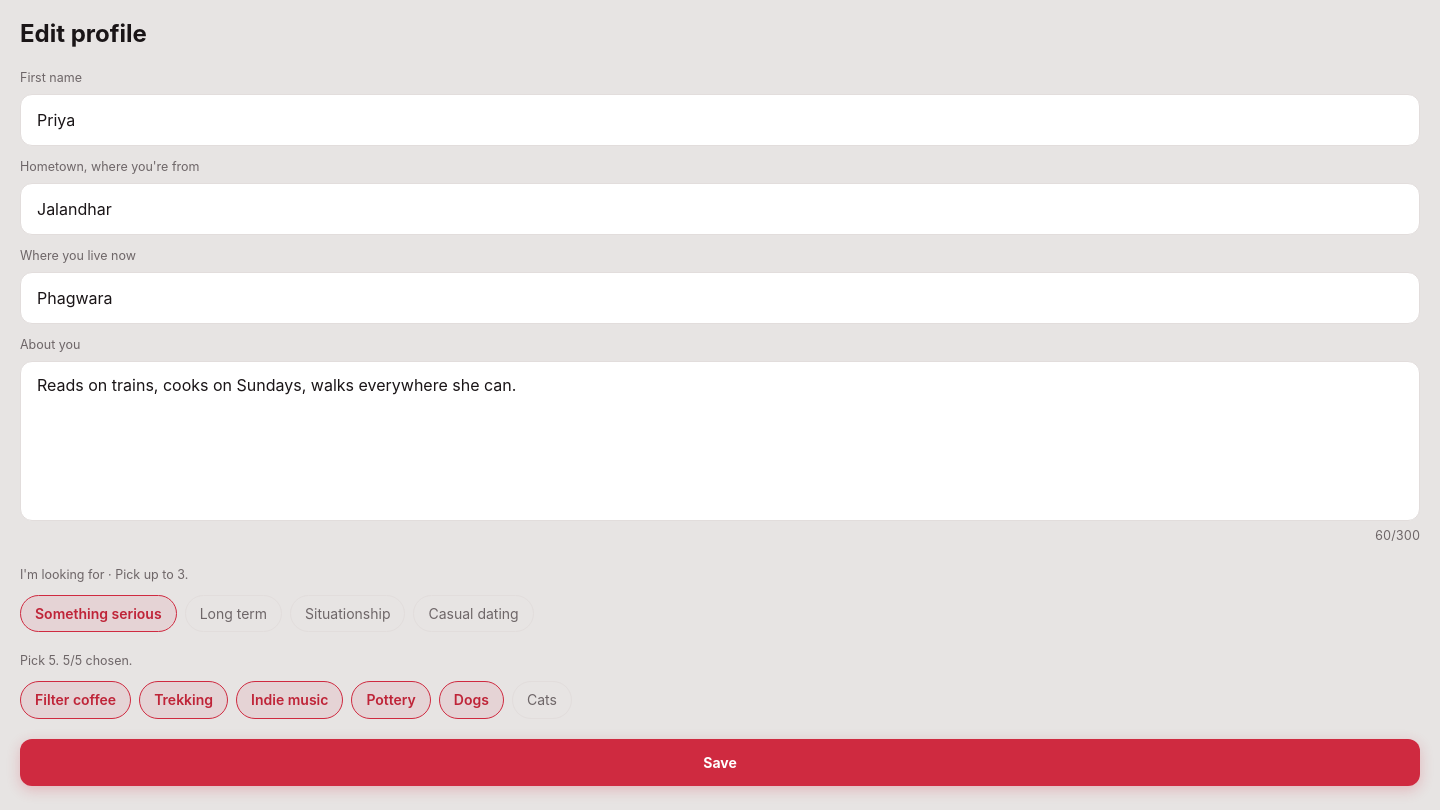
Test: edit profile (T-9.8) › shows the server's refusal beside its field (VALIDATION_ERROR), and stays
The image size is (1440, 810).
Type " Call me on 98765 43210 any time at all." into the text box labelled "About you" at (720, 441), box [20,361,1420,521]
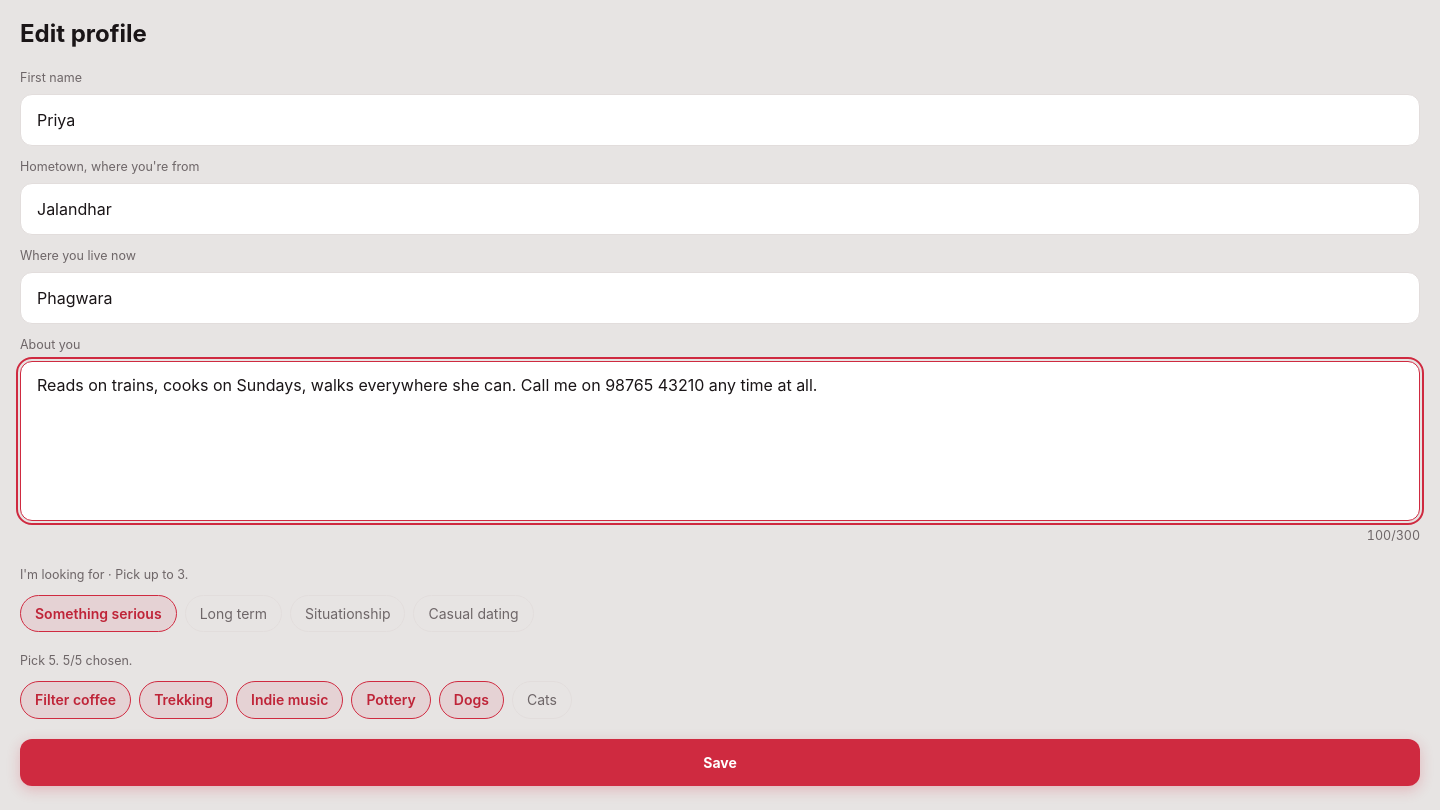
Click the button "Save" at (720, 763), box [20,739,1420,786]
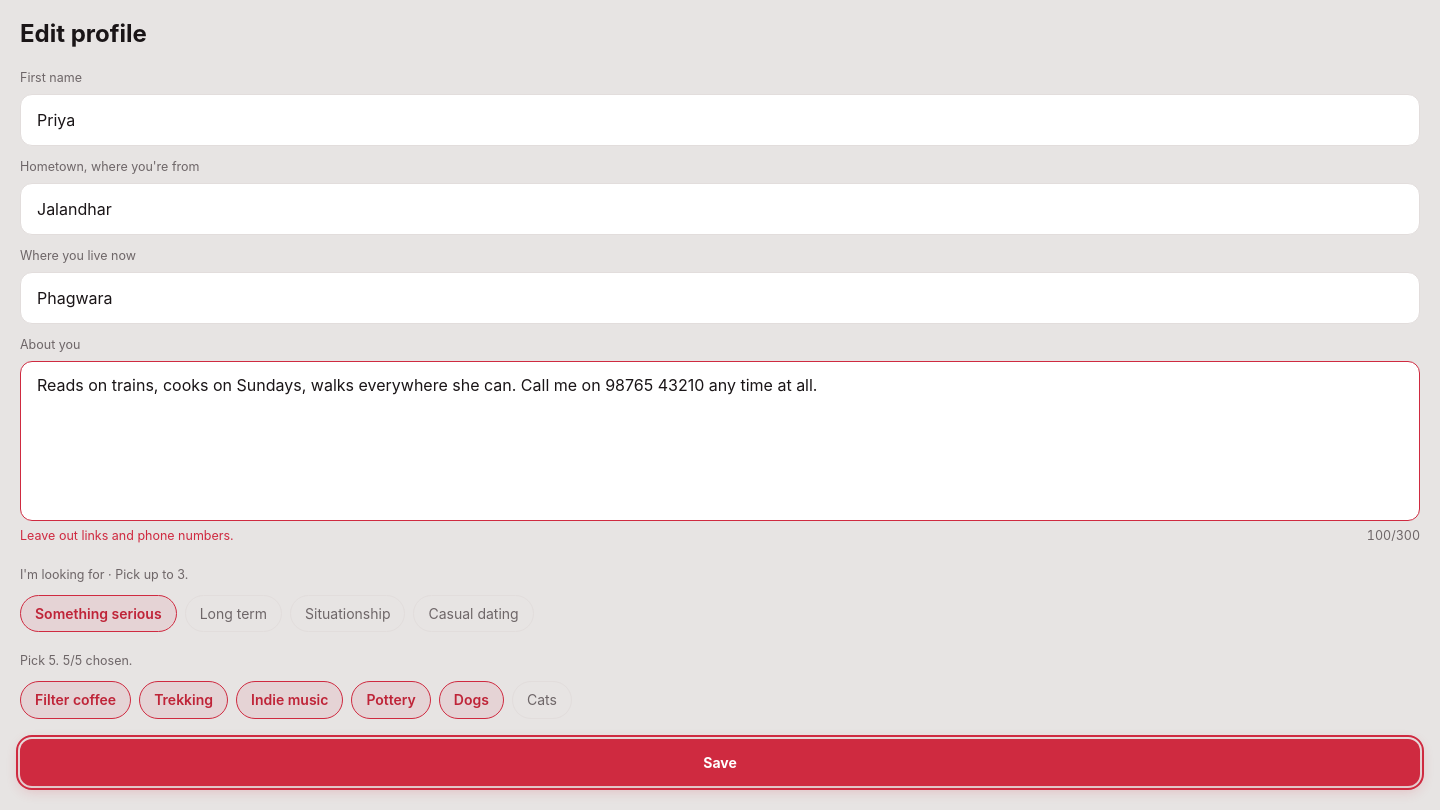
Expected: the text "Leave out links and phone numbers." is shown, [20,527,234,546]
